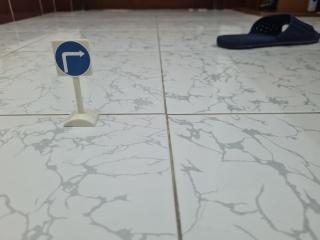right: (48, 30, 103, 80)
